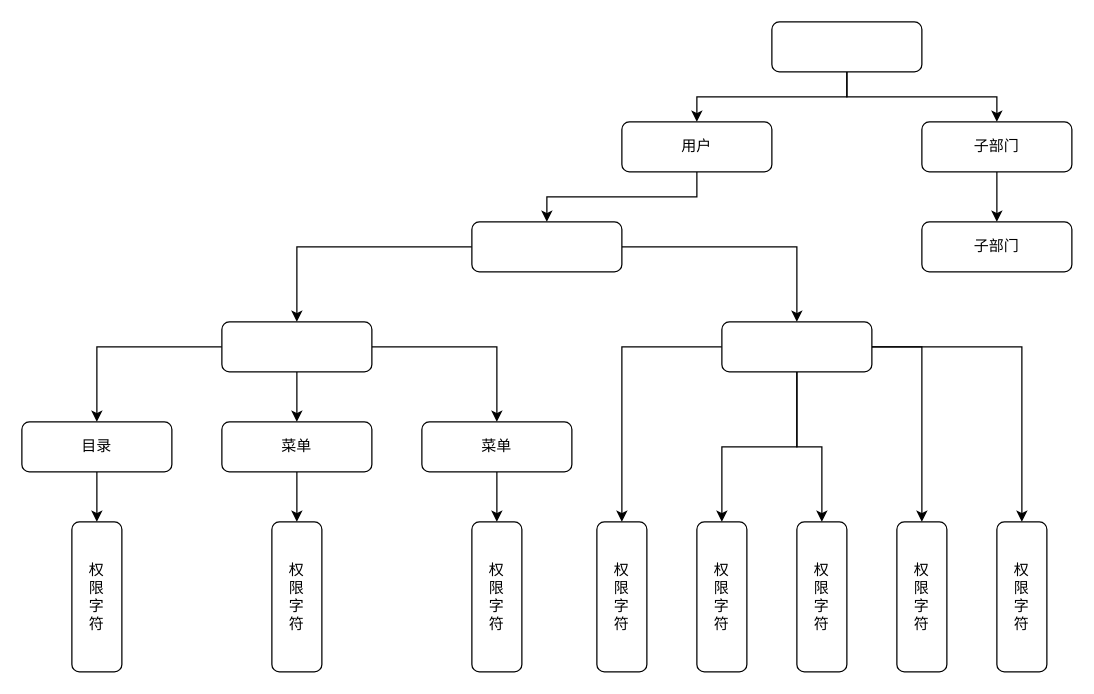
Image size: 1094x694. Some labels were removed from this diagram. The box of each missing label's shape, as (x1, y1, x2, y2) in pixels:
数据权限: (721, 321, 872, 372)
菜单权限: (221, 321, 372, 372)
角色: (471, 221, 622, 272)
部门: (771, 21, 922, 72)
